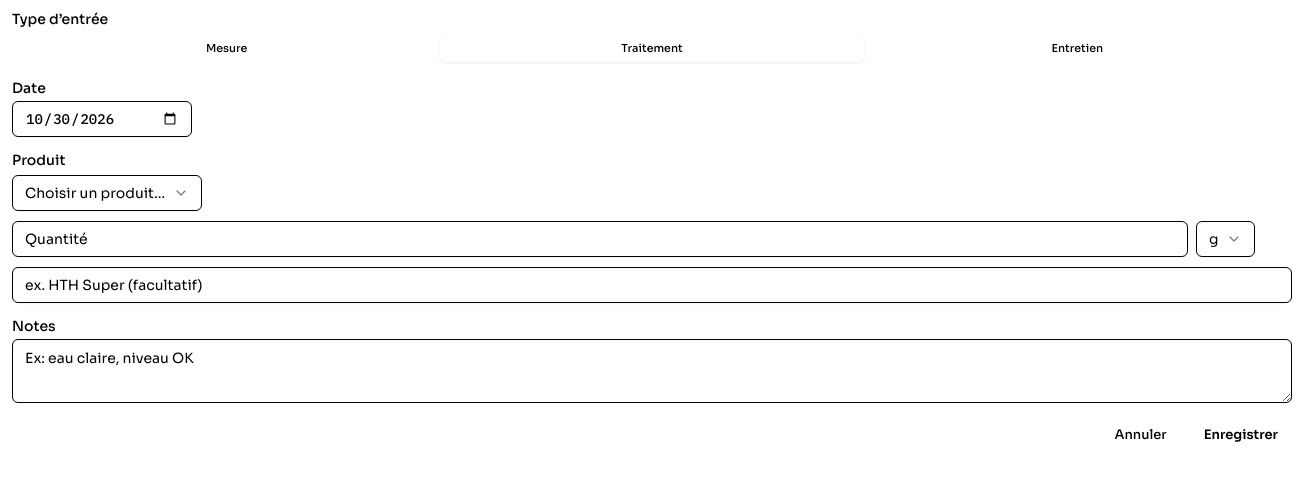
Scenario: ActionForm › treatment kind › refuses a treatment with no product chosen
Expected: the text "Choisir un produit…" is shown, x1=25 y1=182 x2=165 y2=202
Step 1. Click the button "Enregistrer" → (1241, 434), box x1=1190 y1=416 x2=1292 y2=452
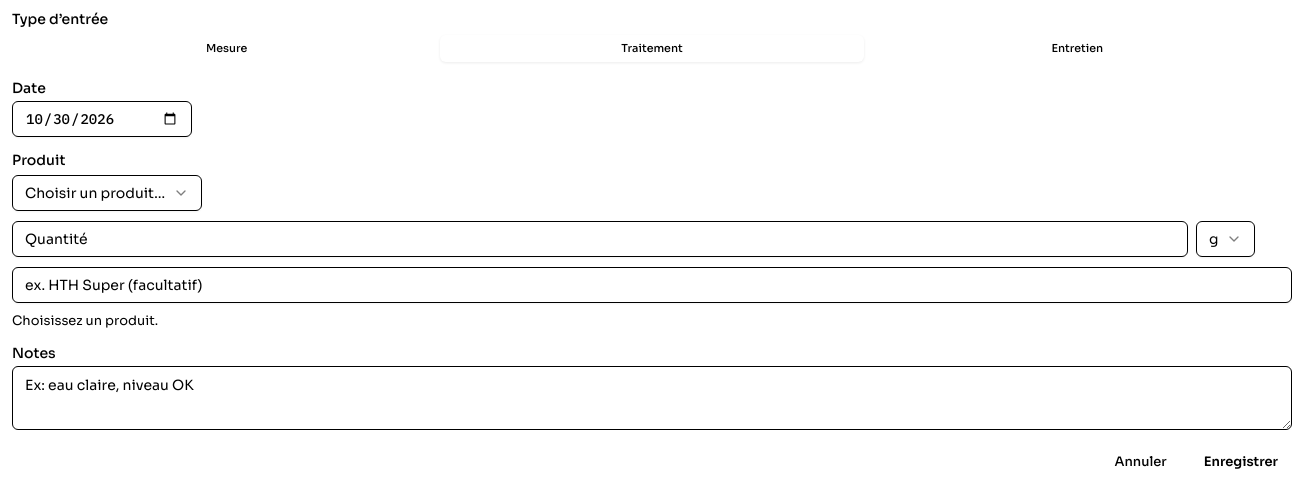
Result: the text "Choisissez un produit." is shown at x1=12 y1=312 x2=158 y2=328
